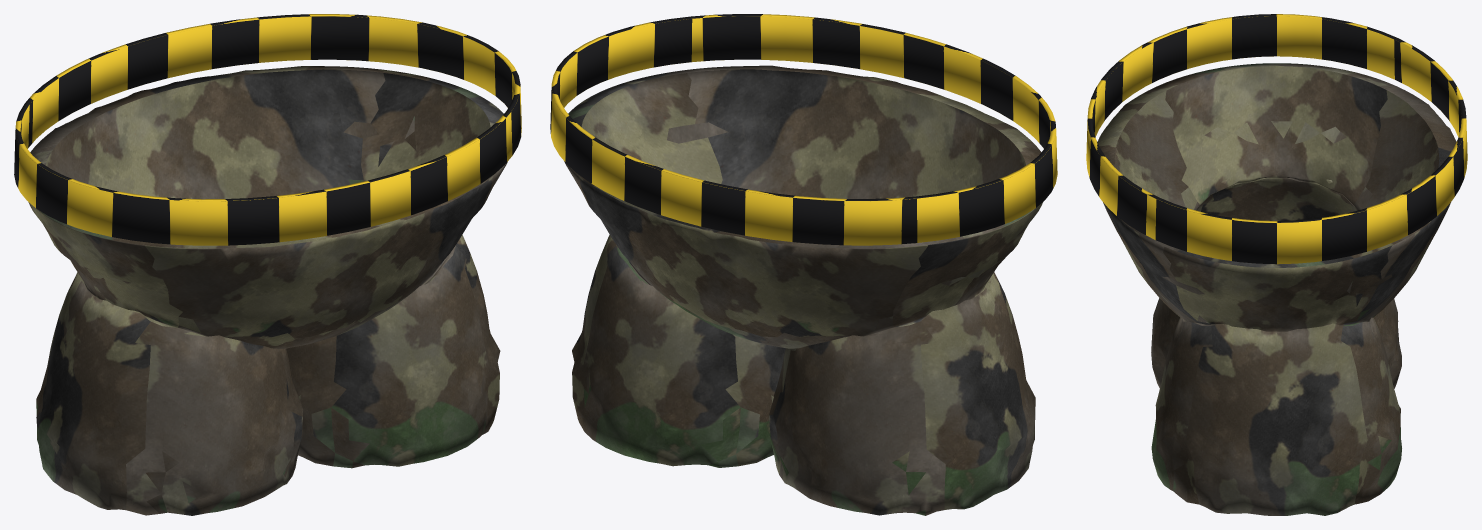
File: baggy3.fbx
3 renders of one model, left to right at view 1: azimuth 30°, elevation 25°; view 2: azimuth 150°, elevation 25°; view 3: azimuth 270°, elevation 25°, orthographic. The views are drawn at different scales.
Parts seen in each view (by area): view 1: baggy3; view 2: baggy3; view 3: baggy3.
Part boxes in pixels (x1=…): baggy3: x1=14, y1=14, x2=521, y2=515; baggy3: x1=550, y1=14, x2=1057, y2=515; baggy3: x1=1086, y1=14, x2=1467, y2=515.
Size of the model in its own units: 0.8281 by 0.5657 by 0.6356.
2 materials, 2 textured.
